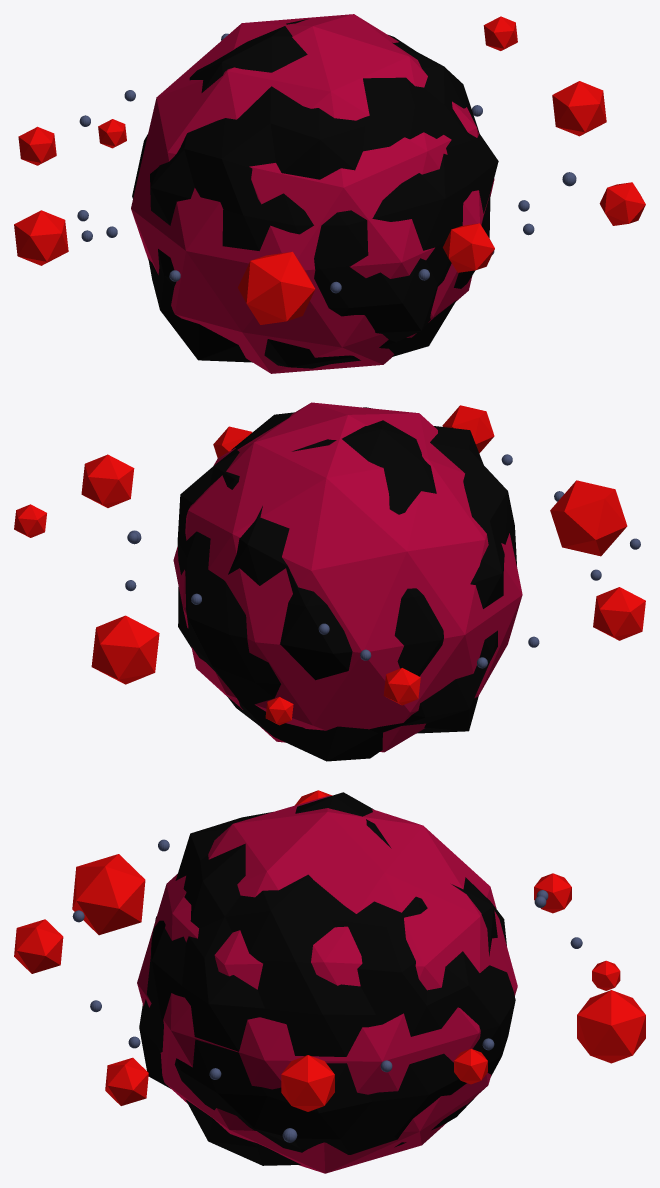
Rendered from RedPlanet.fbx.
3 renders of one model, top to bottom at view 1: azimuth 30°, elevation 25°; view 2: azimuth 150°, elevation 25°; view 3: azimuth 270°, elevation 25°, orthographic. The views are drawn at different scales.
Visible parts, largest first — view 1: Sphere.015; view 2: Sphere.015; view 3: Sphere.015.
Boxes of the visible parts, box(x1,y1,x2,y2) form: Sphere.015: box(14, 14, 645, 373); Sphere.015: box(14, 402, 645, 761); Sphere.015: box(14, 790, 645, 1173).
Size of the model in its own units: 321 by 180 by 294.
